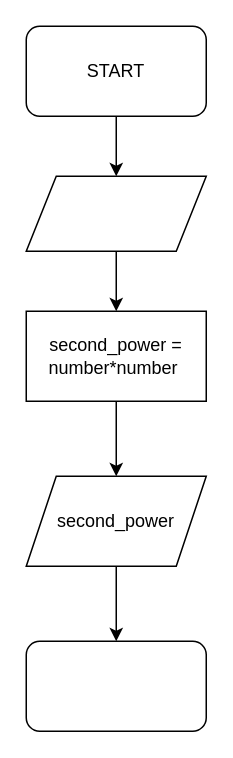
This 233x758 diagram has some shape labels left out. Here are the shapes that lost their labels. From the top down, the centre of each, then its label:
At (115,213): "number, second_power".
At (115,685): "FINISH".
